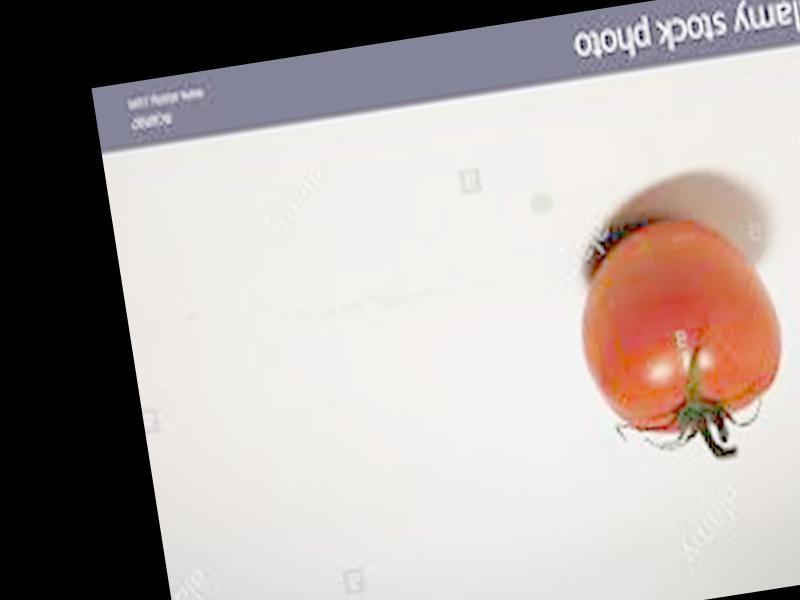Tomato: (566, 205, 791, 441)
